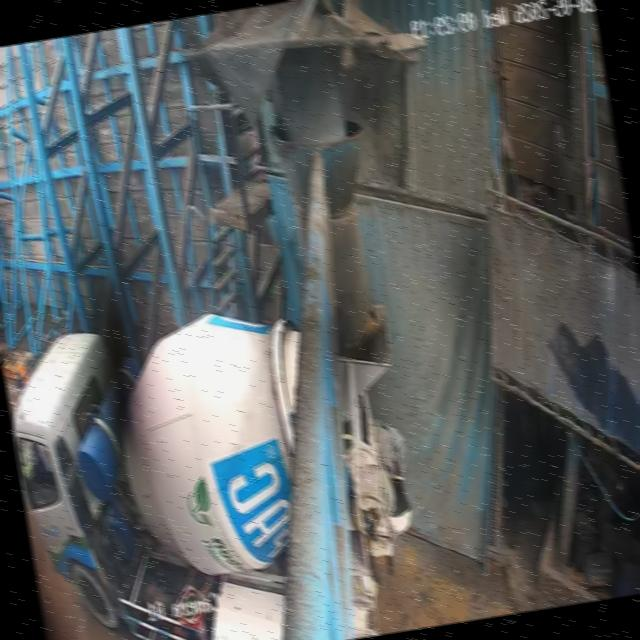cement_mixer_truck: (0, 282, 437, 640)
swing_chute: (270, 116, 390, 338)
